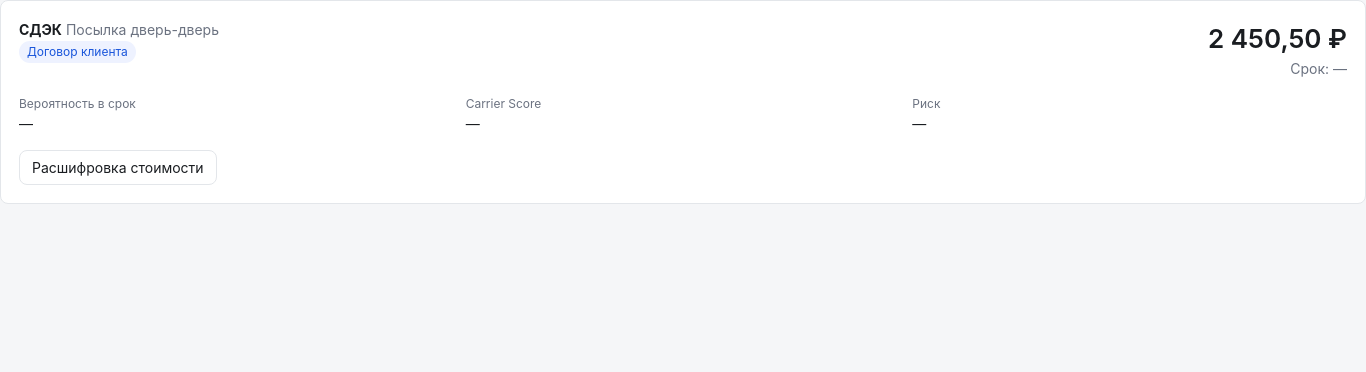
Test: OfferCard › раскрывает расшифровку стоимости по требованию
This screenshot has width=1366, height=372.
Check: the text "Страхование" is not shown
Click the button "Расшифровка стоимости".
click(118, 168)  # box [19,150,217,185]
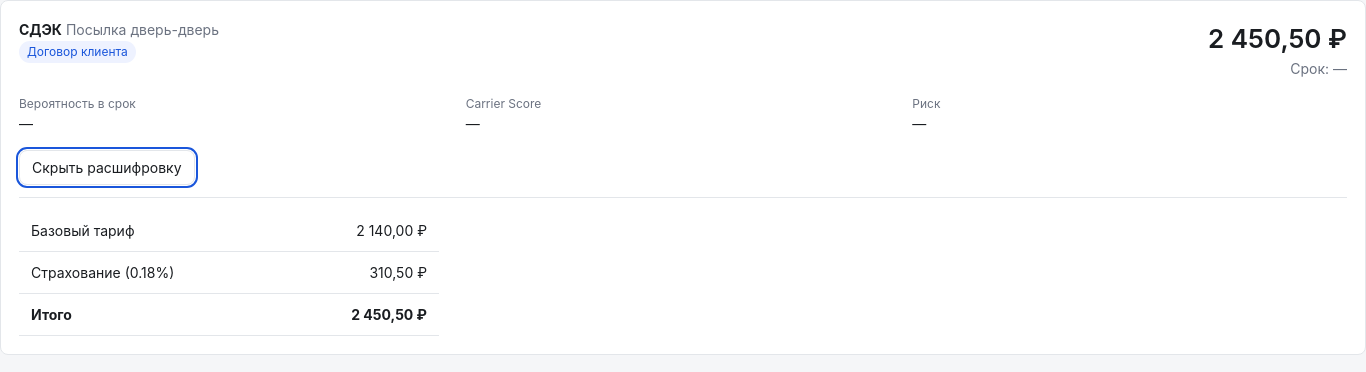
Check: the text "Базовый тариф" is shown, box [19,210,282,252]
Check: the text "Страхование (0.18%)" is shown, box [19,252,282,294]
